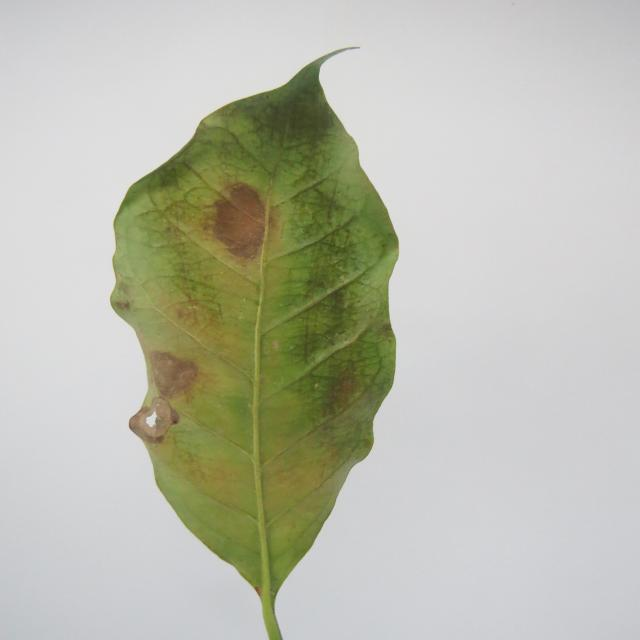DeficienciaNutricional-Potasio: (112, 50, 398, 640)
